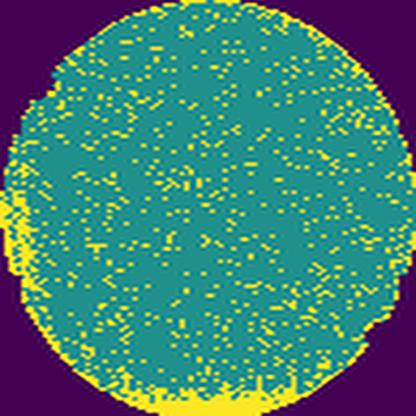Edge-Loc: (104, 373, 321, 416), (0, 185, 46, 309)
